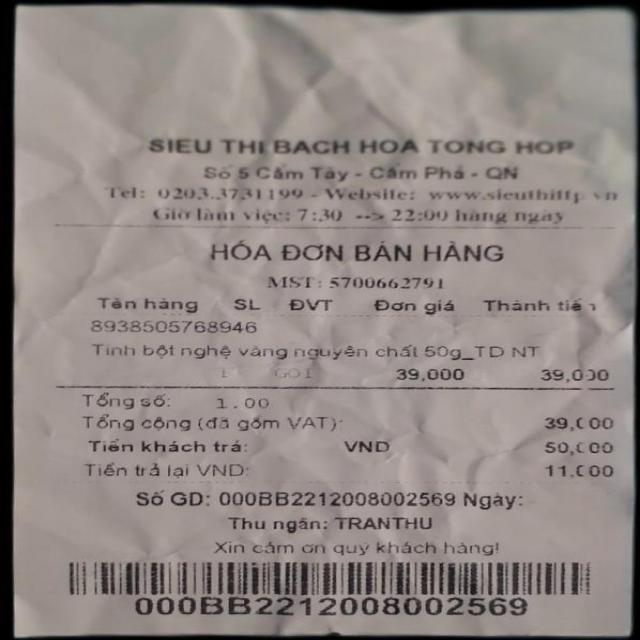Store_Name: (111, 108, 582, 163)
Total_Amount: (62, 411, 626, 437)
